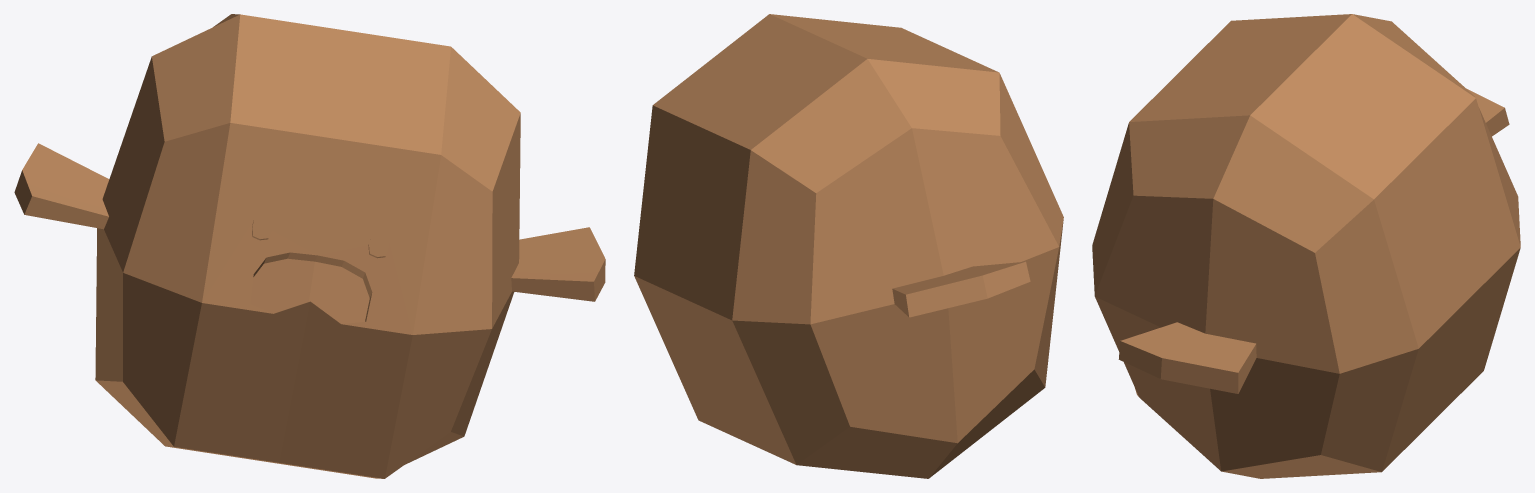
The model's file is puffer_fish.fbx.
3 renders of one model, left to right at view 1: azimuth 30°, elevation 25°; view 2: azimuth 150°, elevation 25°; view 3: azimuth 270°, elevation 25°, orthographic. The views are drawn at different scales.
Visible parts, largest first — view 1: puffer_fish; view 2: puffer_fish; view 3: puffer_fish.
Part boxes in pixels (bbox=[...]): puffer_fish: bbox=[14, 14, 605, 478]; puffer_fish: bbox=[634, 14, 1063, 478]; puffer_fish: bbox=[1092, 14, 1520, 478].
Size of the model in its own units: 101 by 89.67 by 82.
Materials: 1 (1 with a texture image).
